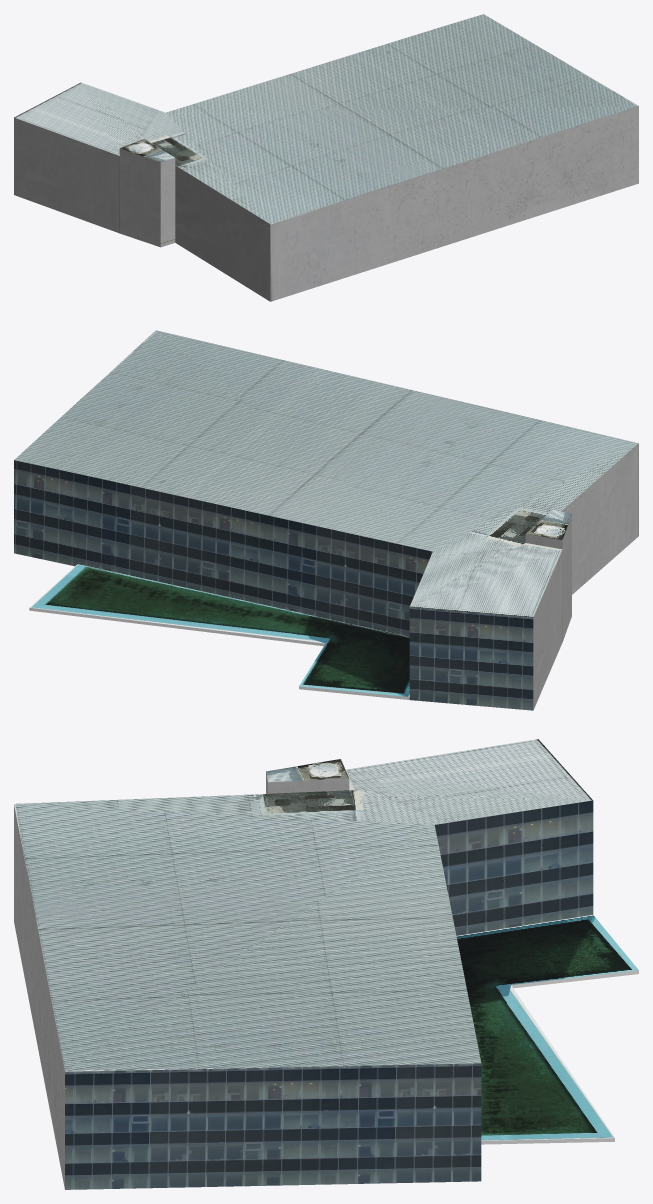
The model's file is AIT1.gltf.
3 views of the same model, one above another, from view 1: azimuth 30°, elevation 25°; view 2: azimuth 150°, elevation 25°; view 3: azimuth 270°, elevation 25° (orthographic). The views are drawn at different scales.
Visible parts, largest first — view 1: instance_0.012, instance_0.009, instance_0, instance_0.011, instance_0.002, instance_0.005, instance_0.006, instance_0.007; view 2: instance_0.008, instance_0.009, instance_0, instance_0.010, instance_0.012, instance_0.003, instance_0.002, instance_0.005, instance_0.011, instance_0.006, instance_0.004, instance_0.007; view 3: instance_0.008, instance_0.009, instance_0, instance_0.010, instance_0.003, instance_0.002, instance_0.012, instance_0.005, instance_0.006, instance_0.007, instance_0.004, instance_0.001.
Boxes of the visible parts, x1,y1,x2,y2 form: instance_0.012: (119,106,638,301); instance_0.009: (166,106,638,224); instance_0: (166,14,638,112); instance_0.011: (14,117,119,233); instance_0.002: (82,83,269,223); instance_0.005: (14,82,119,155); instance_0.006: (81,82,138,155); instance_0.007: (120,139,174,162); instance_0.008: (14,460,533,710); instance_0.009: (156,330,638,551); instance_0: (14,330,432,551); instance_0.010: (79,564,409,696); instance_0.012: (525,443,638,641); instance_0.003: (30,564,324,643); instance_0.002: (410,444,637,606); instance_0.005: (410,550,561,617); instance_0.011: (533,550,562,710); instance_0.006: (411,543,562,606); instance_0.004: (29,607,409,699); instance_0.007: (526,509,571,540); instance_0.008: (65,800,593,1189); instance_0.009: (14,804,433,1071); instance_0: (65,825,481,1071); instance_0.010: (456,915,638,1109); instance_0.003: (481,985,614,1140); instance_0.002: (16,794,592,824); instance_0.012: (14,772,349,1188); instance_0.005: (345,739,592,800); instance_0.006: (346,771,590,800); instance_0.007: (266,759,348,782); instance_0.004: (481,970,638,1144); instance_0.001: (269,790,586,800).
Size of the model in its own units: 101 by 18.39 by 76.31.
12 materials, 11 textured.
